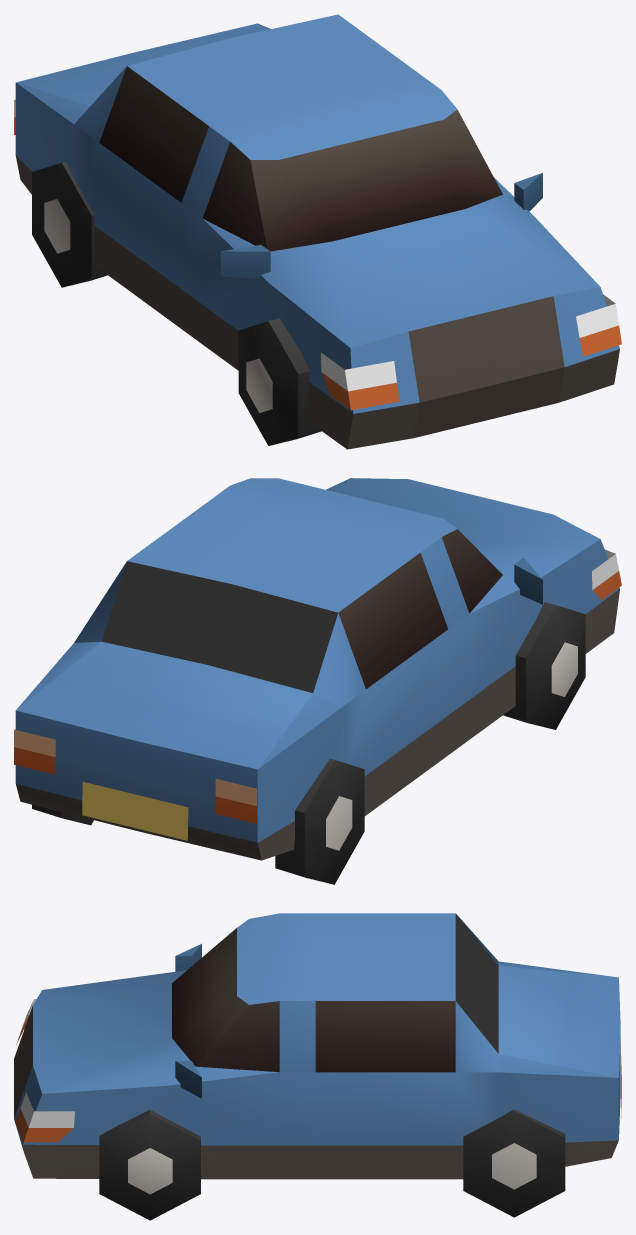
The model's file is Traffic_Car_03.fbx.
3 views of the same model, one above another, from view 1: azimuth 30°, elevation 25°; view 2: azimuth 150°, elevation 25°; view 3: azimuth 270°, elevation 25° (orthographic). The views are drawn at different scales.
Visible parts, largest first — view 1: Traffic_Car_03; view 2: Traffic_Car_03; view 3: Traffic_Car_03.
Boxes of the visible parts, x1,y1,x2,y2 form: Traffic_Car_03: (14,14,621,449); Traffic_Car_03: (14,478,621,884); Traffic_Car_03: (14,913,621,1220).
Size of the model in its own units: 0.7297 by 0.5239 by 1.4.
